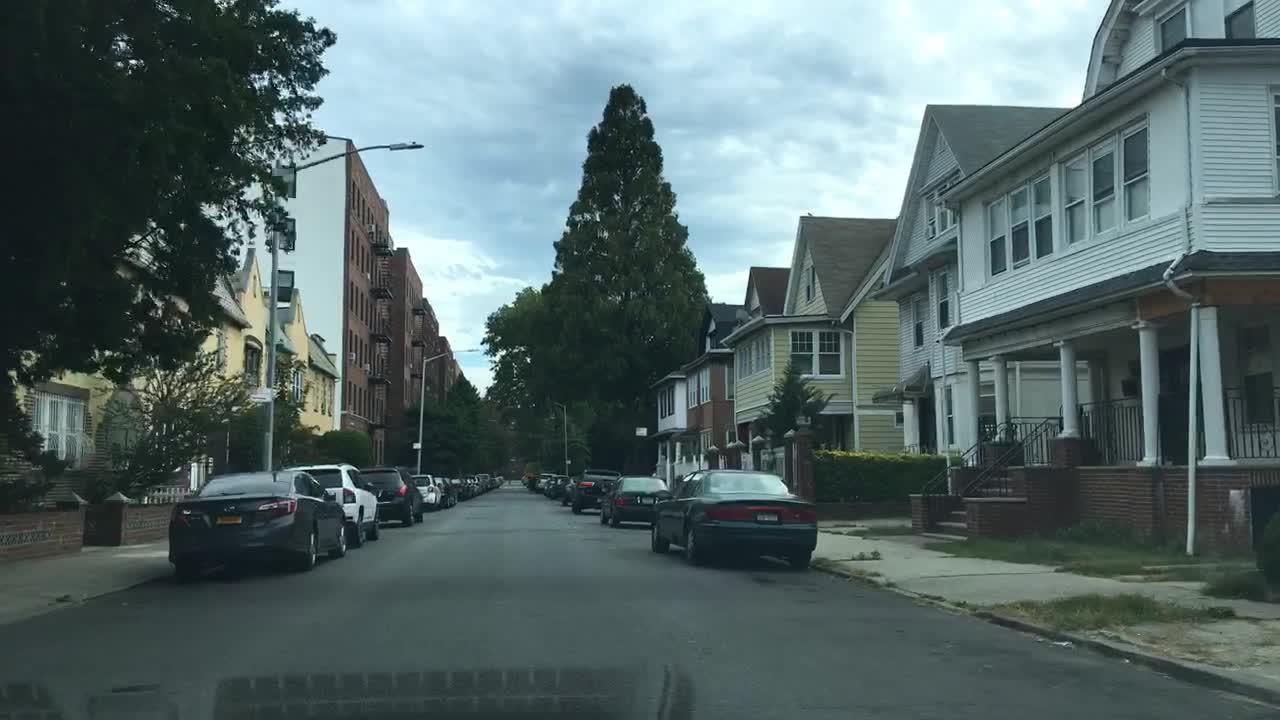car: (166, 468, 349, 580), (651, 467, 819, 570), (279, 461, 379, 548), (598, 473, 673, 530), (359, 466, 424, 525), (570, 468, 621, 514), (406, 474, 441, 512), (558, 473, 580, 504), (433, 476, 452, 505), (546, 474, 569, 497), (444, 475, 460, 504), (456, 474, 471, 499), (536, 471, 553, 492), (464, 474, 477, 497), (477, 472, 492, 490), (543, 475, 557, 494), (473, 475, 484, 494), (528, 472, 537, 488), (489, 475, 498, 487), (524, 473, 531, 485), (497, 473, 503, 484), (520, 473, 527, 482)
traffic sign: (633, 426, 647, 435), (411, 441, 421, 448)
